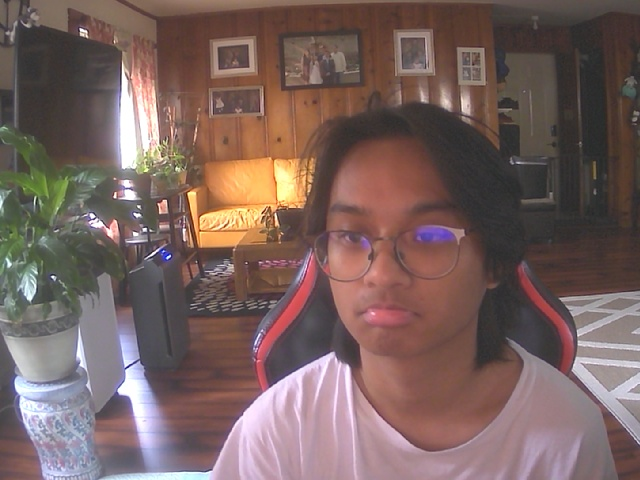sad: (301, 122, 509, 358)
